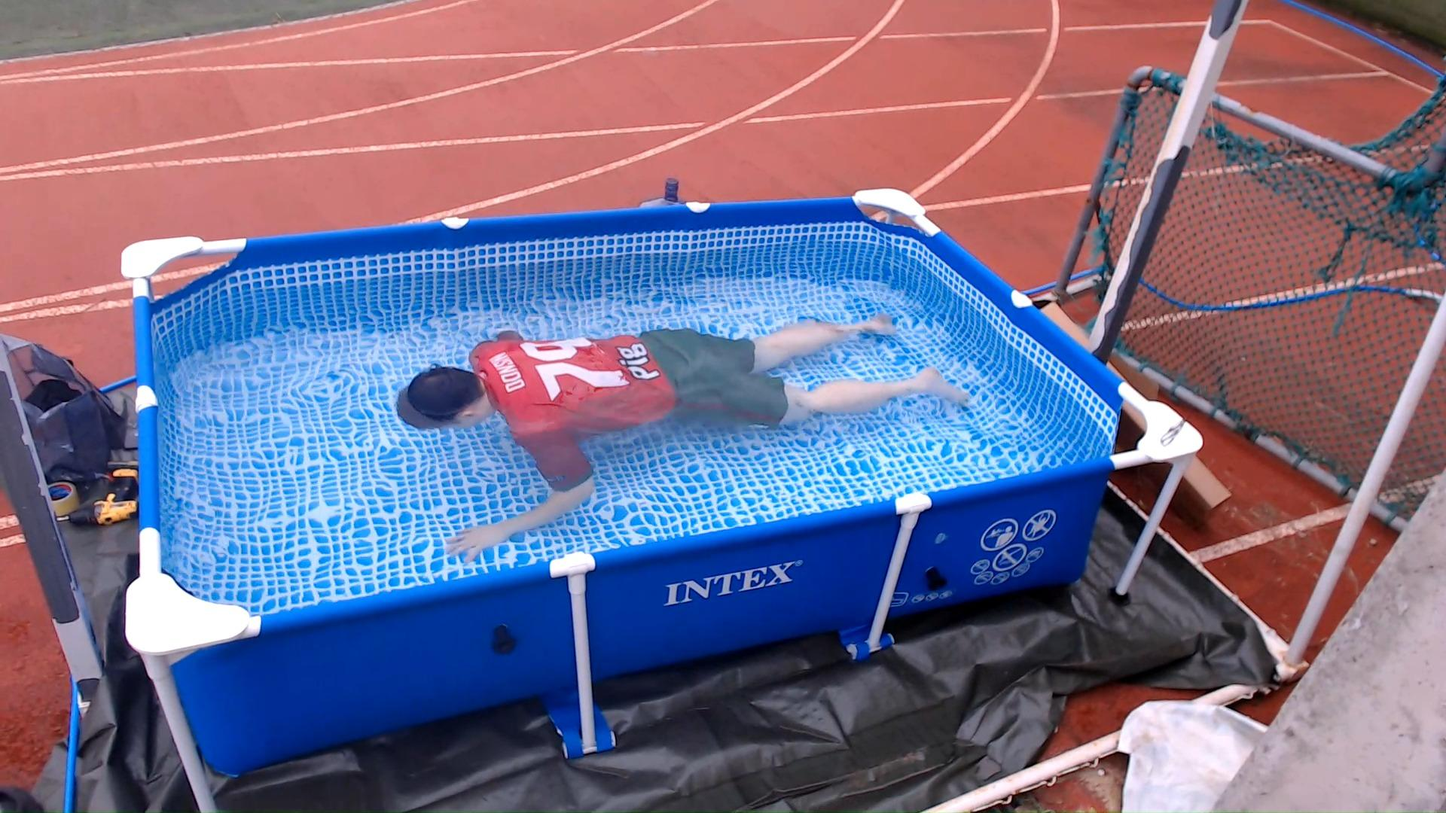Drowning: (321, 292, 1044, 516)
